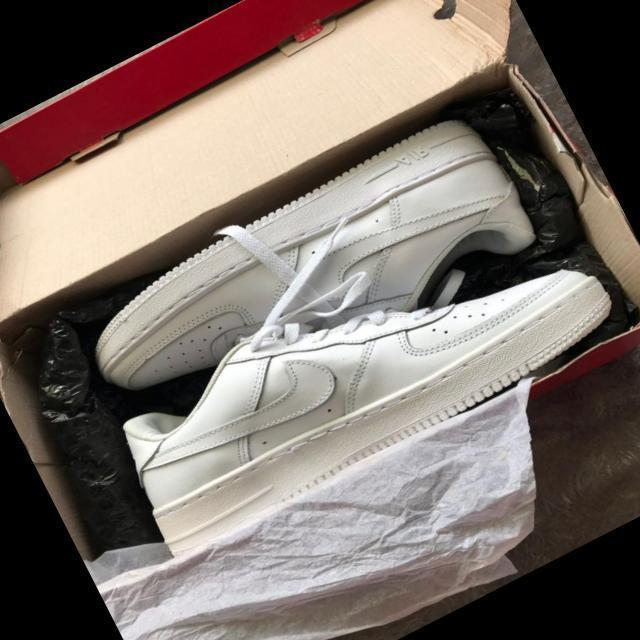nike fake air force: (68, 180, 632, 584), (65, 94, 560, 450)
